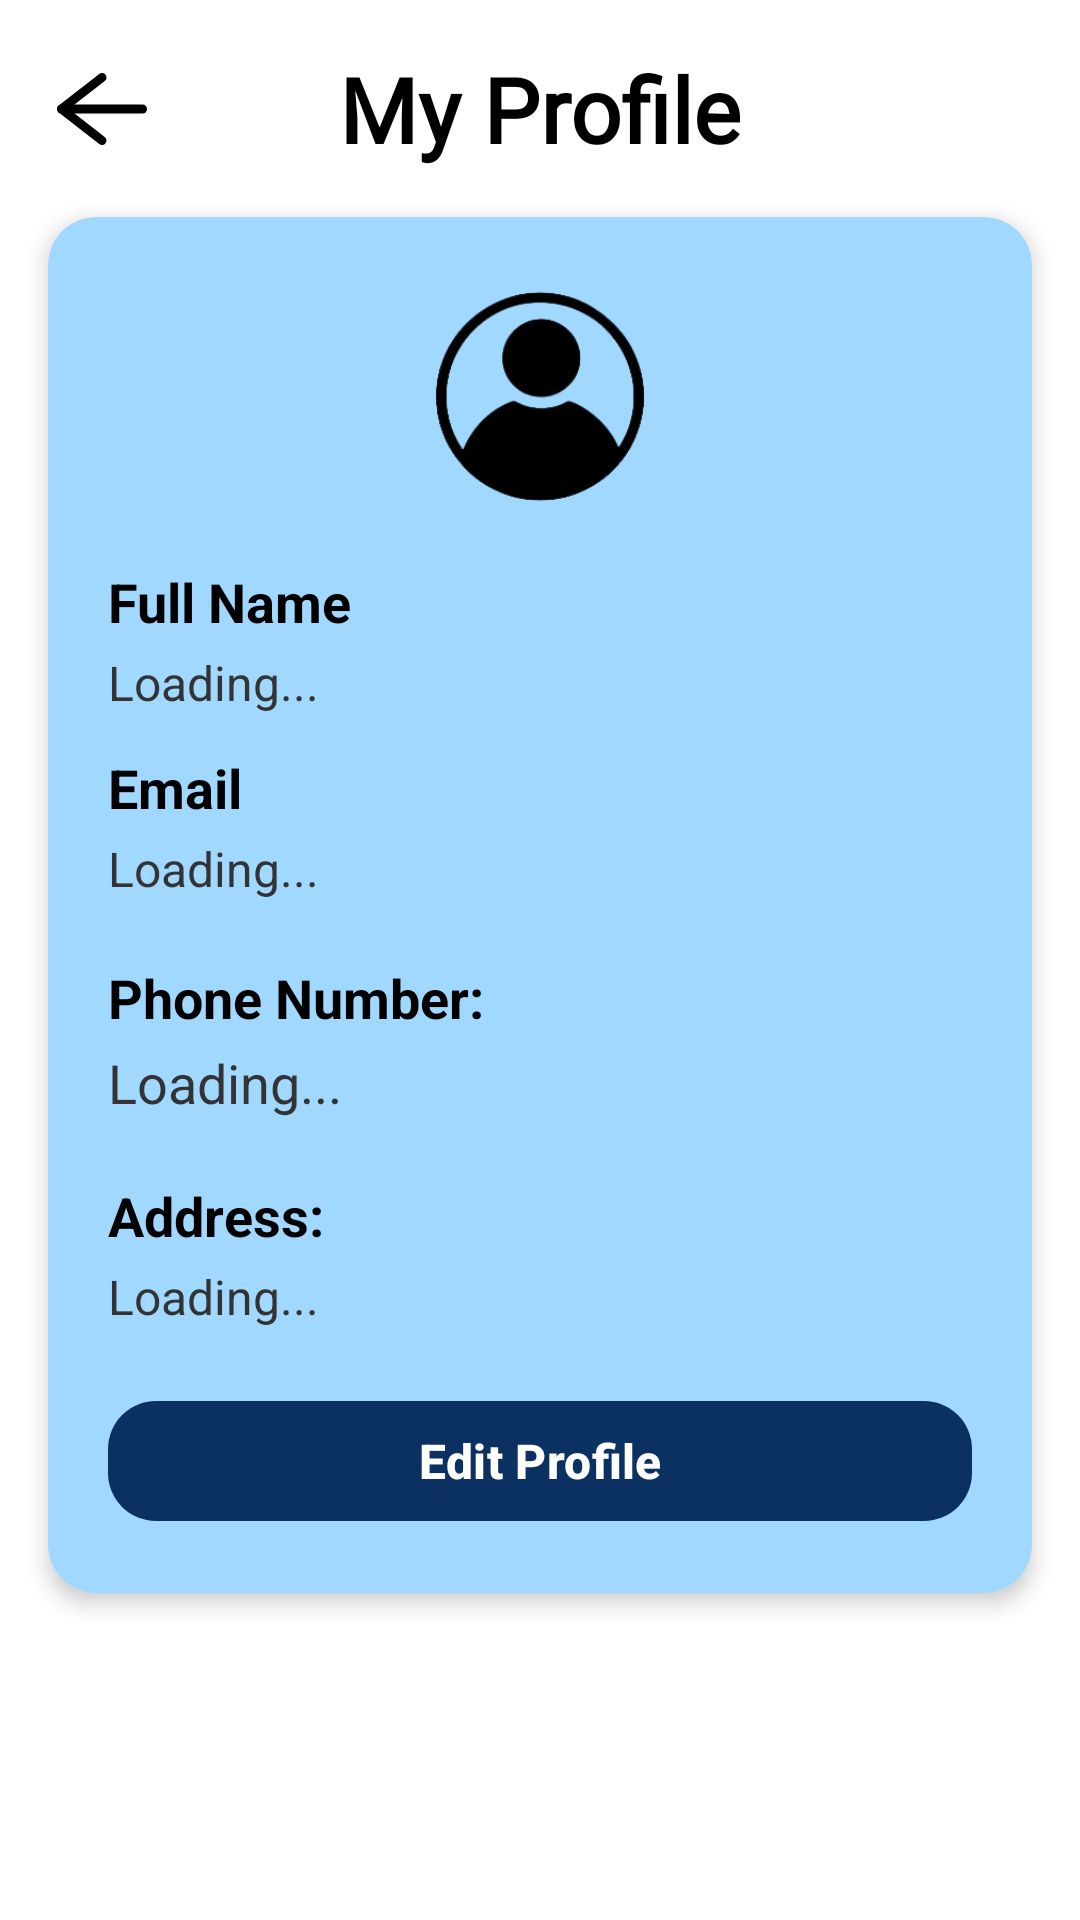

Locate icon controls on the screen. Image size 1080*1920, boxes as (x1, y1, x2, y2).
Back: (57, 73, 147, 145)
